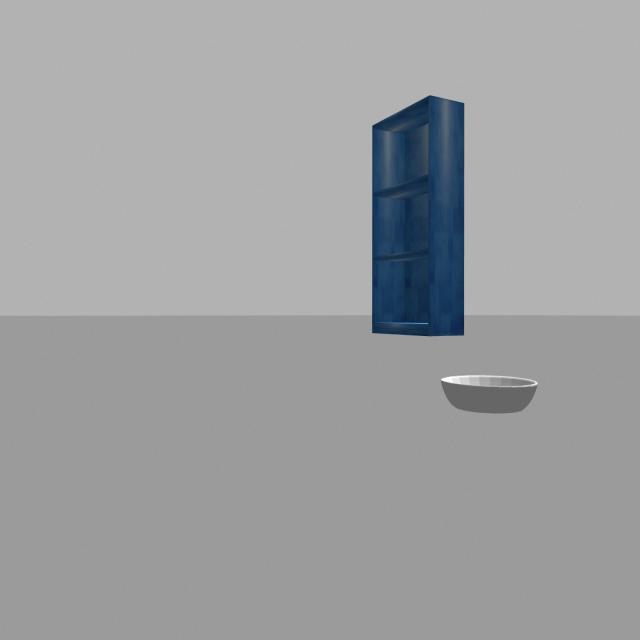bowl: (442, 363, 540, 413)
shelf: (352, 74, 485, 353)
